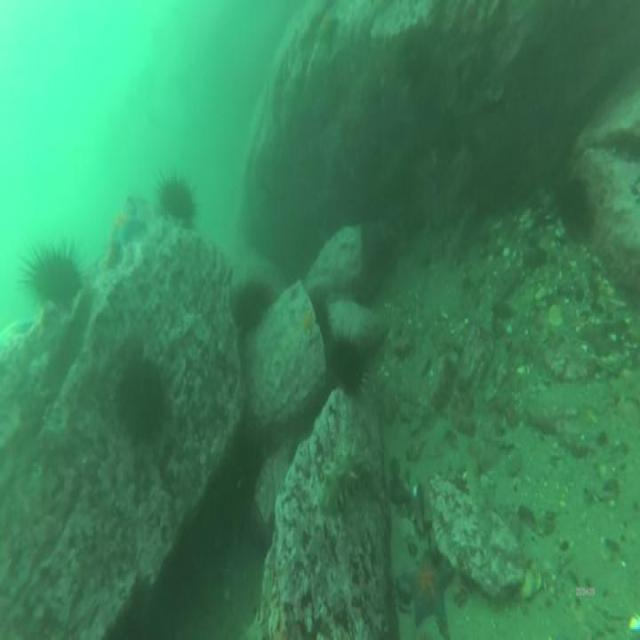echinus: (116, 363, 162, 438), (30, 253, 78, 303), (553, 178, 593, 236), (231, 275, 272, 324), (327, 335, 360, 387), (156, 180, 197, 221)
holothurian: (318, 441, 372, 517)
starfish: (406, 553, 452, 620), (108, 198, 142, 242)
